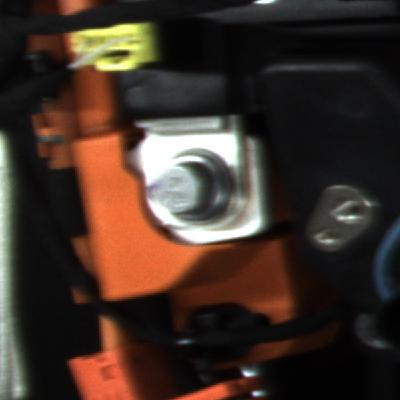nut_b: (154, 145, 238, 229)
